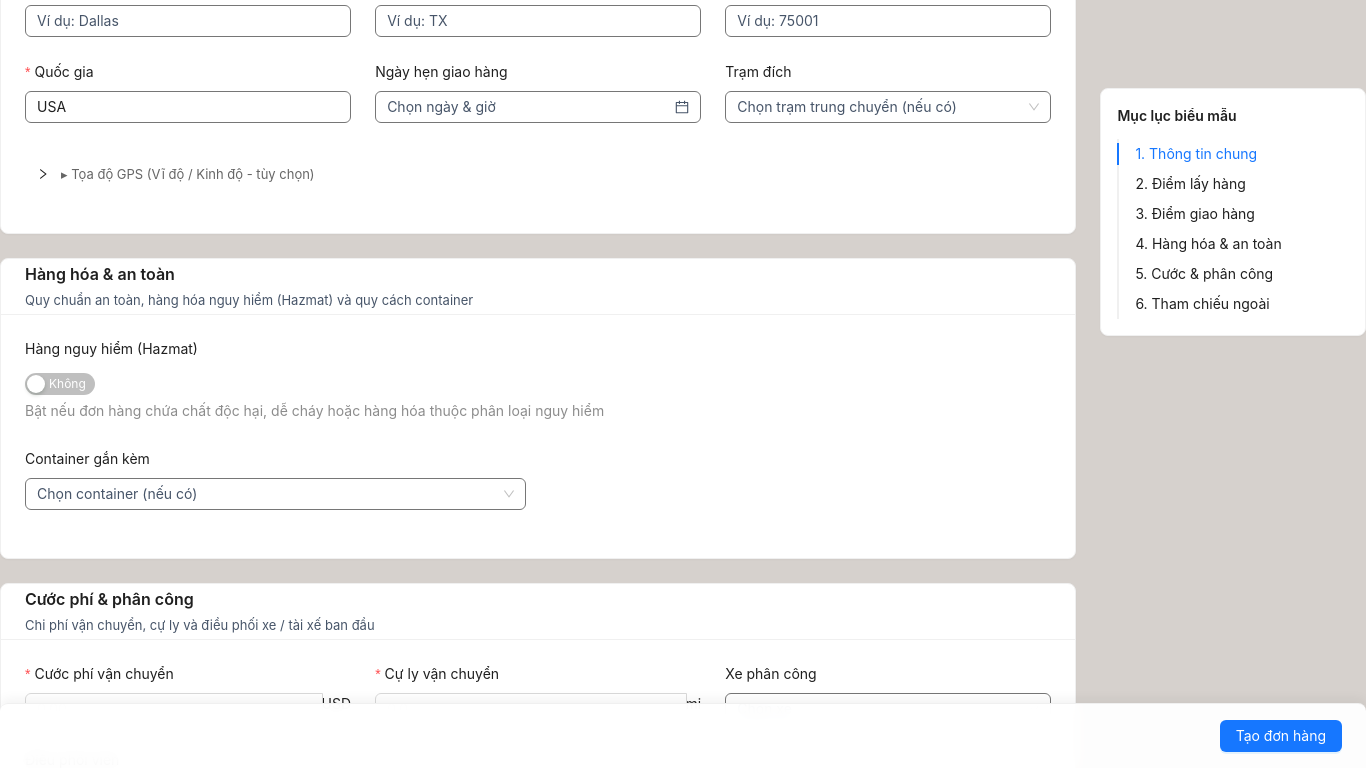
Test: LoadForm — Tuân thủ bộ quy tắc giao diện › chỉ hiển thị ô nhập Hazmat khi bật công tắc hàng nguy hiểm
(page scrolled)
Expected: the field labelled "Hazmat Class" is not shown
Expected: the field labelled "UN Number" is not shown
Click the switch at coordinates (60, 384), box [25, 373, 95, 395]
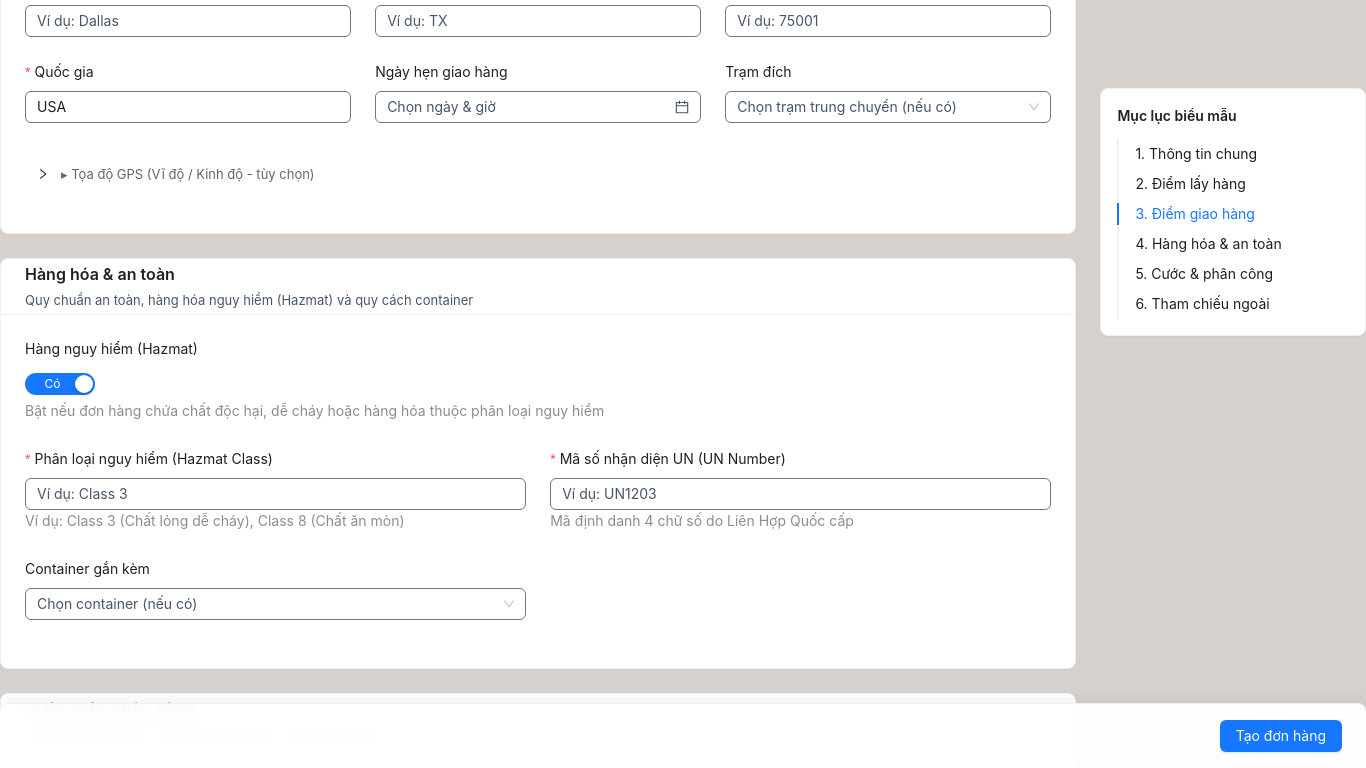
Now the field with placeholder "Ví dụ: Class 3" is shown, box [25, 478, 526, 510]
Now the field with placeholder "Ví dụ: UN1203" is shown, box [550, 478, 1051, 510]
